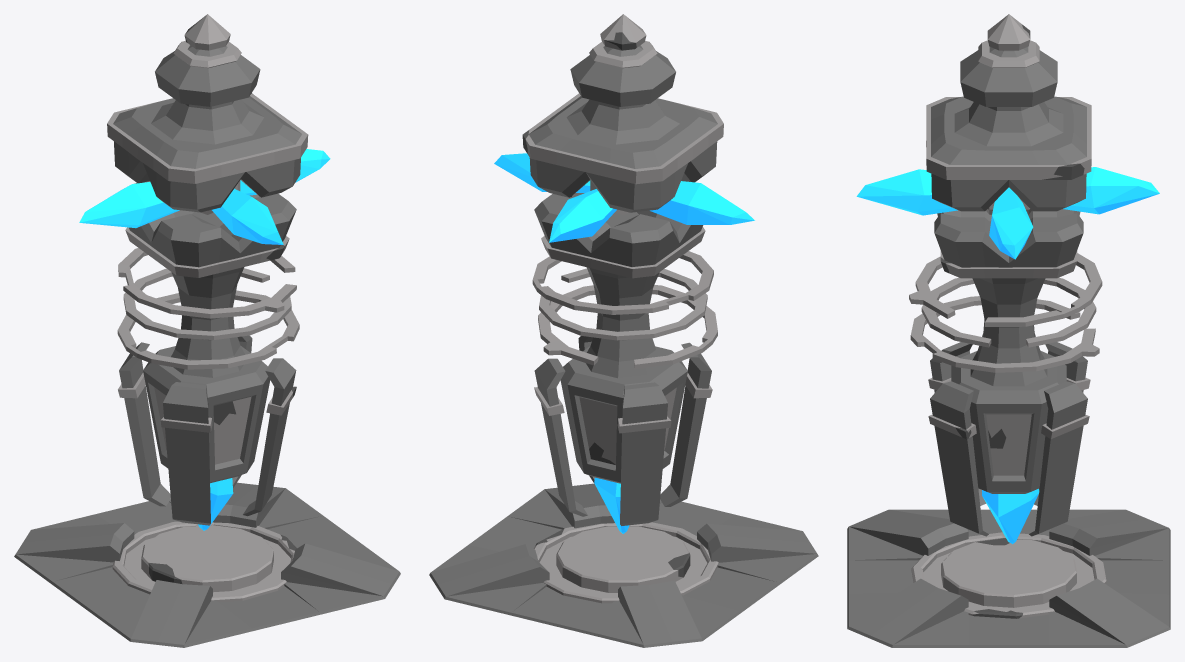
The model's file is LgeMagicTrap.fbx.
3 renders of one model, left to right at view 1: azimuth 30°, elevation 25°; view 2: azimuth 150°, elevation 25°; view 3: azimuth 270°, elevation 25°, orthographic. The views are drawn at different scales.
Parts seen in each view (by area): view 1: LgeMagicTrap; view 2: LgeMagicTrap; view 3: LgeMagicTrap.
Boxes of the visible parts, x1,y1,x2,y2 form: LgeMagicTrap: (14, 14, 400, 647); LgeMagicTrap: (429, 14, 818, 647); LgeMagicTrap: (847, 14, 1170, 647).
Size of the model in its own units: 98.69 by 191 by 98.69.
